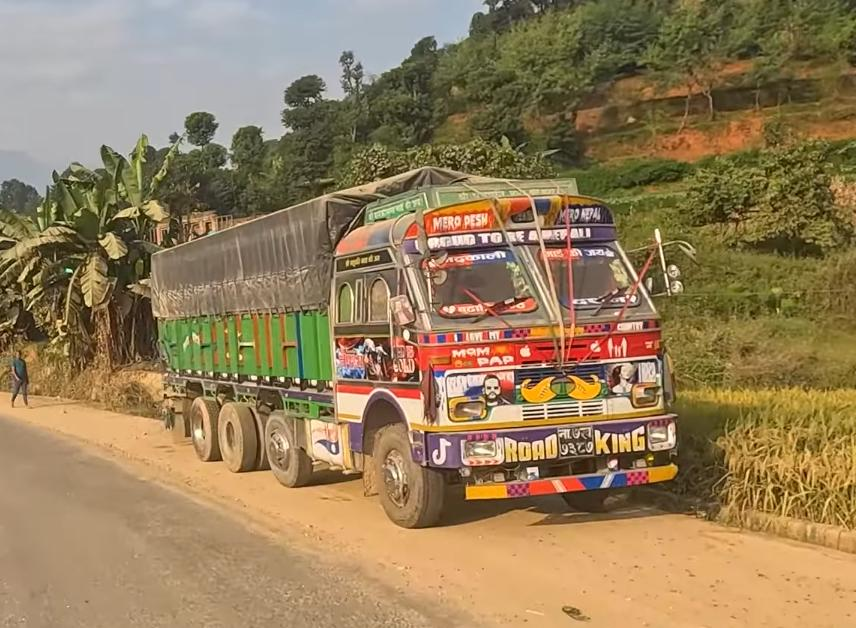truck: (146, 165, 697, 529)
